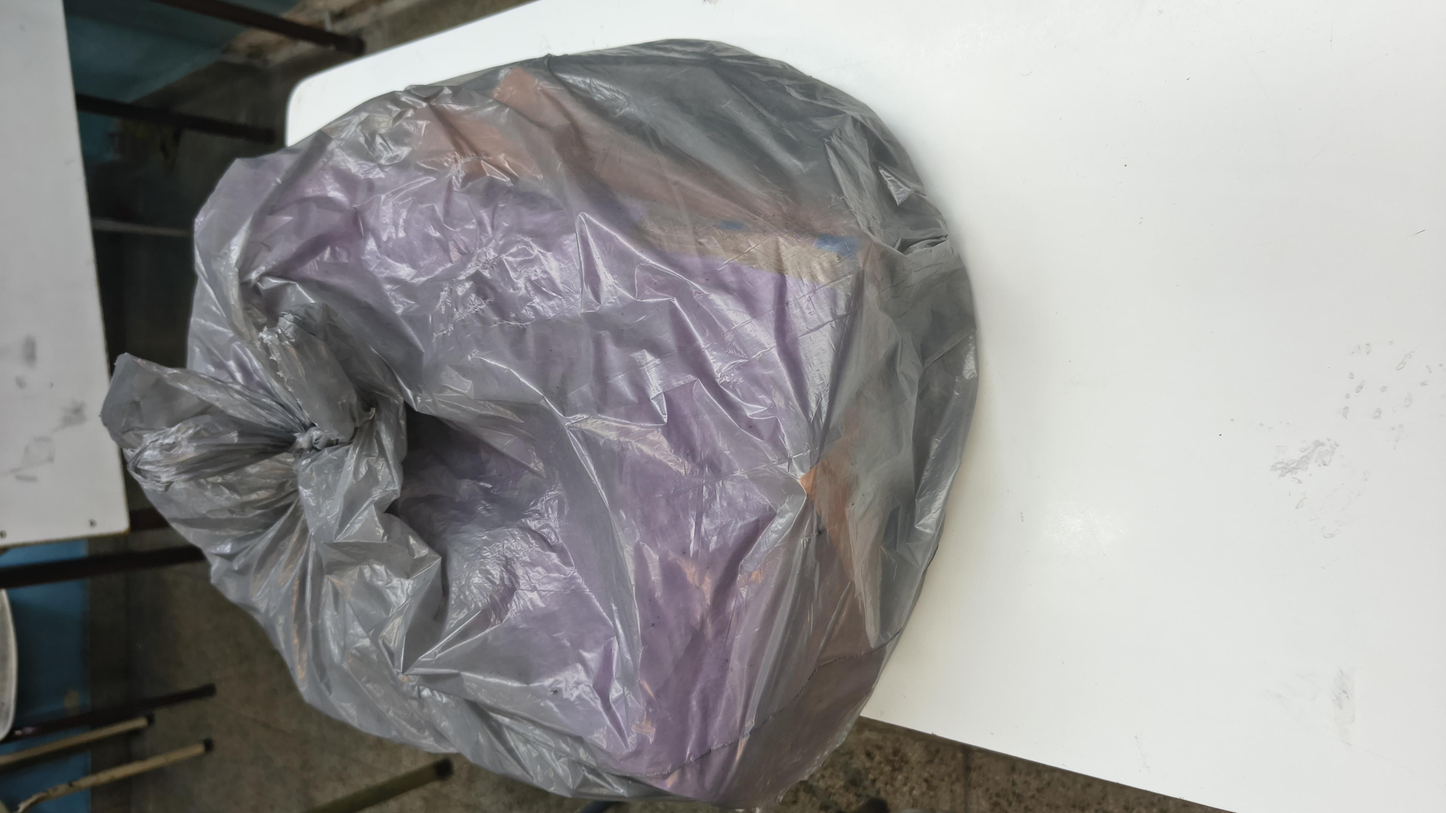Garbage: (6, 42, 1437, 554)
